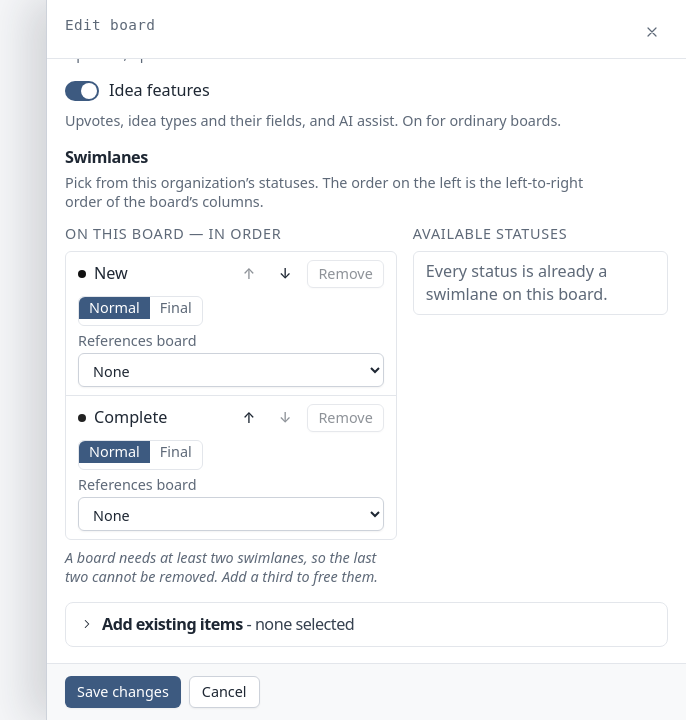
Test: the save button and the pull › uses the edit wording on an existing board
The image size is (686, 720).
(page scrolled)
Click the button "Add existing items - none selected": (172, 624) left=66, top=603, right=667, bottom=646
(page scrolled)
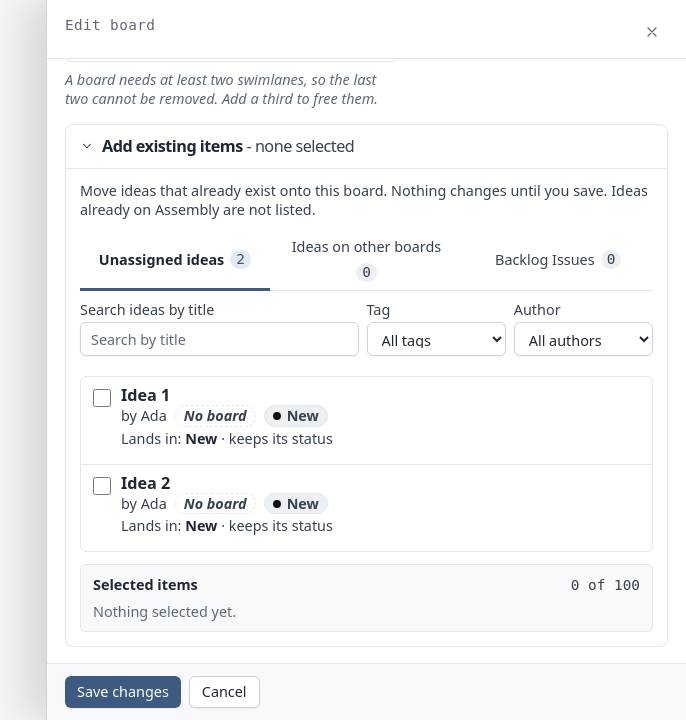
Click the checkbox labelled "Idea 1 by Ada No board New Lands in: New · keeps its status": (102, 398) left=93, top=389, right=111, bottom=407
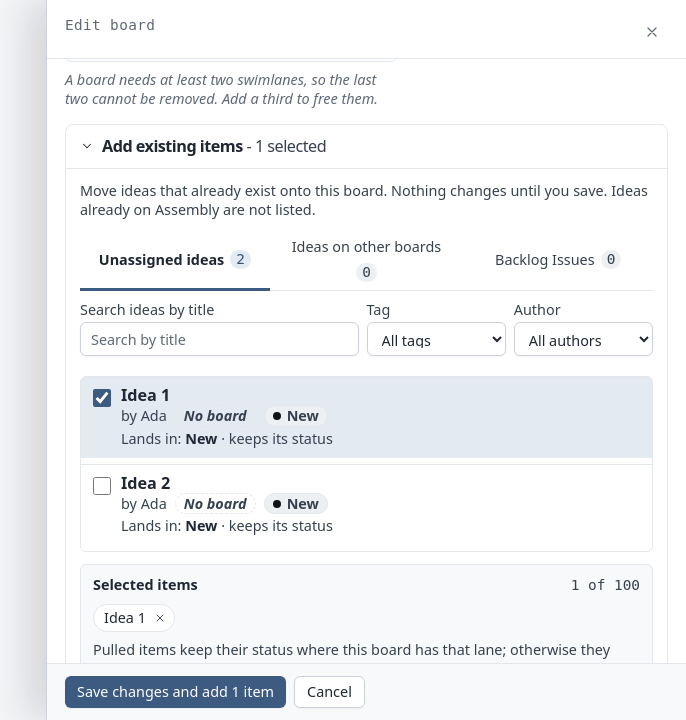
Expected: the button "Save changes and add 1 item" is shown, left=65, top=676, right=286, bottom=708
